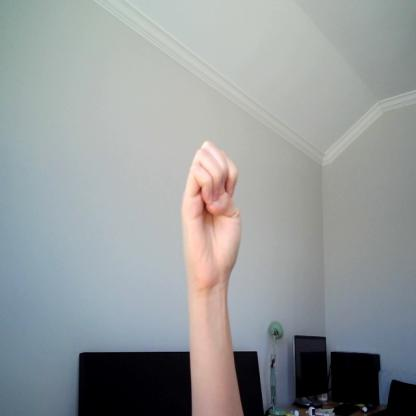E: (182, 139, 245, 292)
